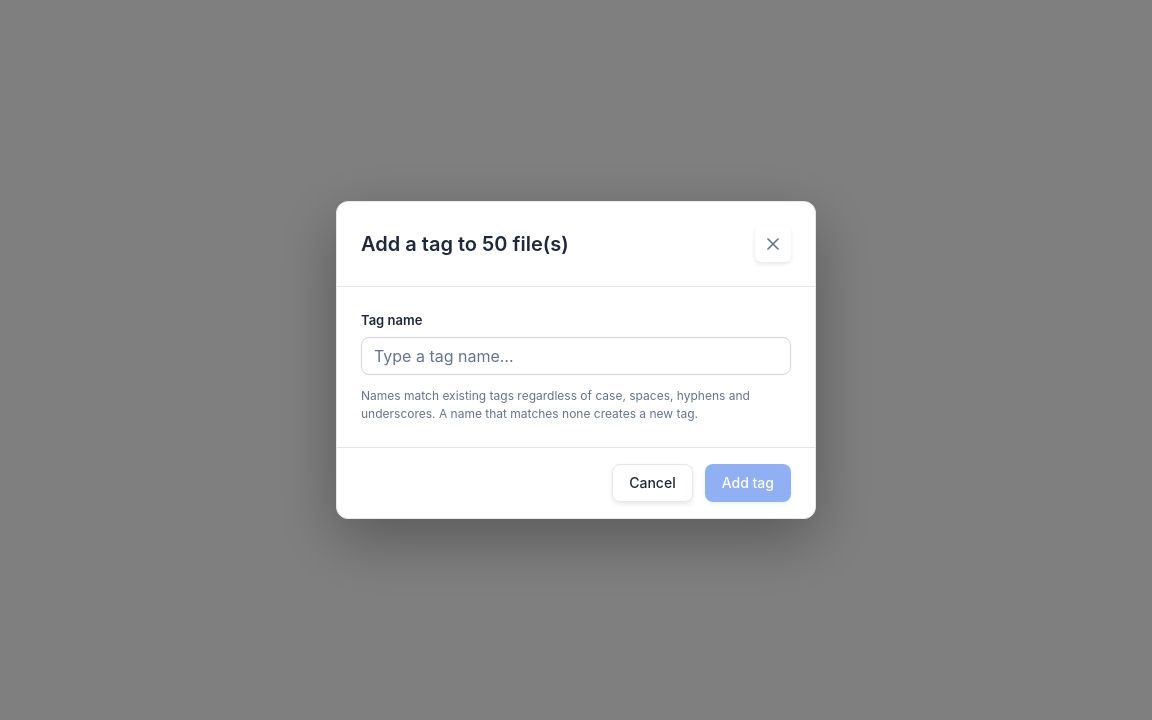
BulkTagModal › says nothing about resolution when the applied name is the typed name
Type "interview" into the dropdown. click: {"x": 576, "y": 356}
box: left=361, top=337, right=791, bottom=375
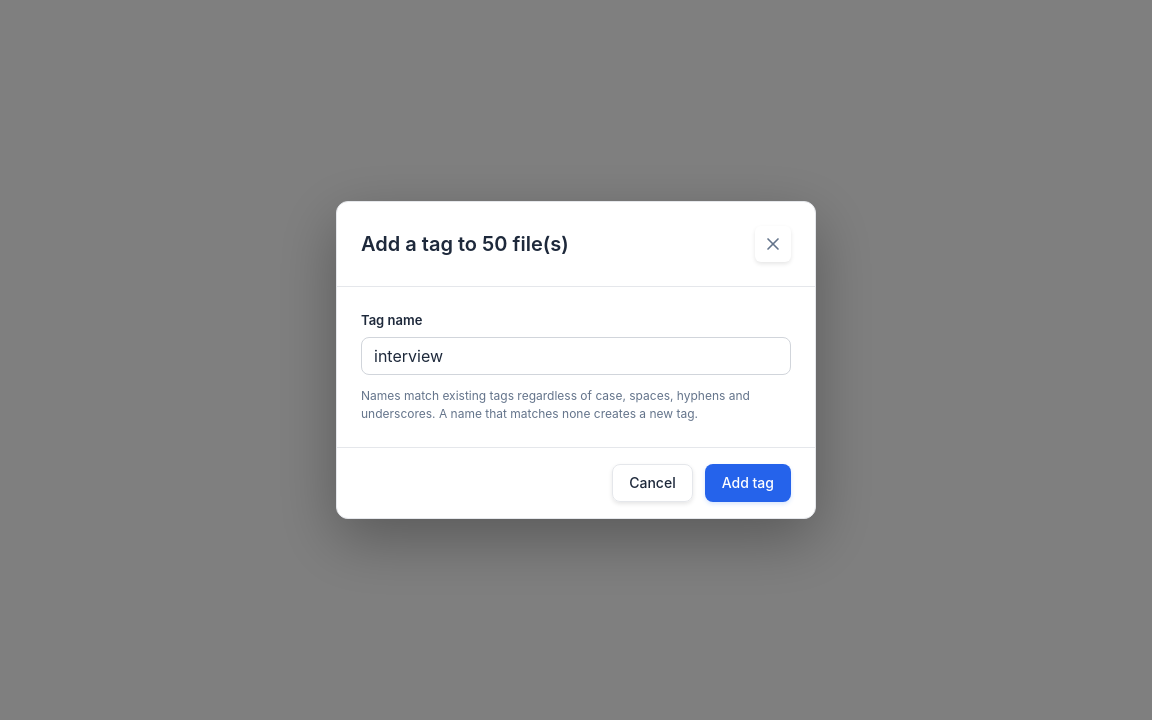
Click the button "Add tag". click: {"x": 748, "y": 483}
box: left=705, top=464, right=791, bottom=502
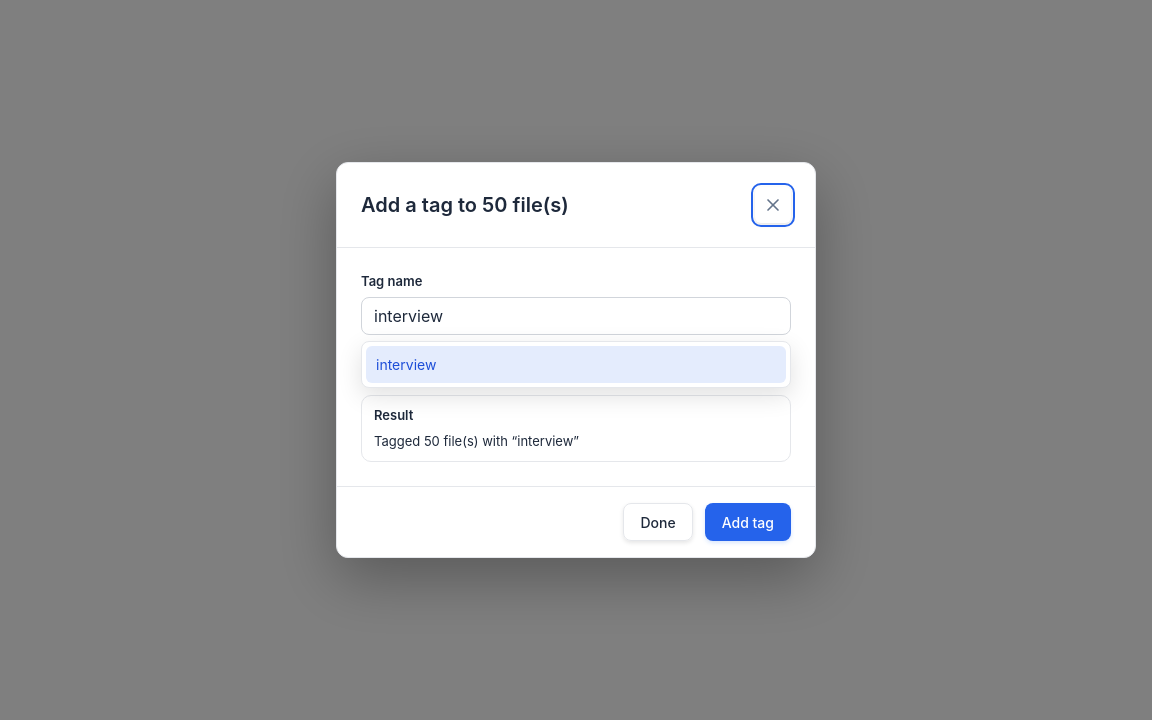
Expected: the message "Result Tagged 50 file(s) with “interview”" is shown, left=361, top=395, right=791, bottom=462
